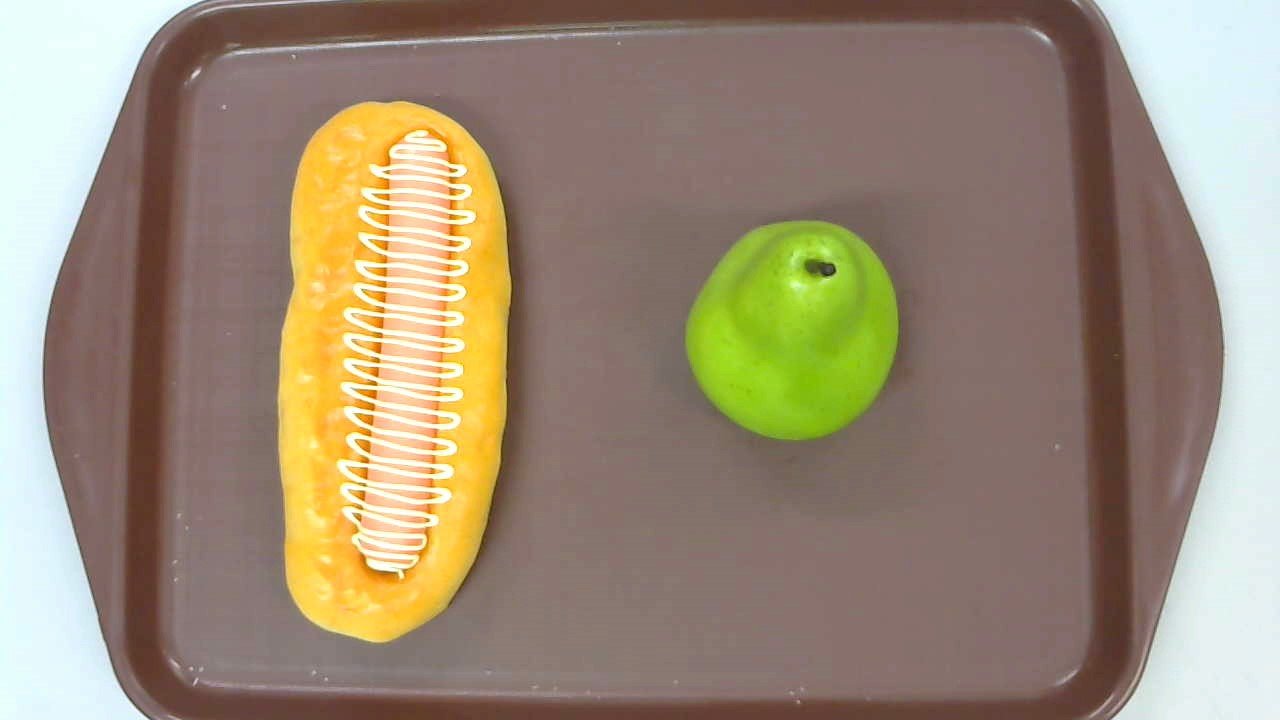green pear: (685, 217, 899, 441)
hot dog: (277, 99, 514, 646)
